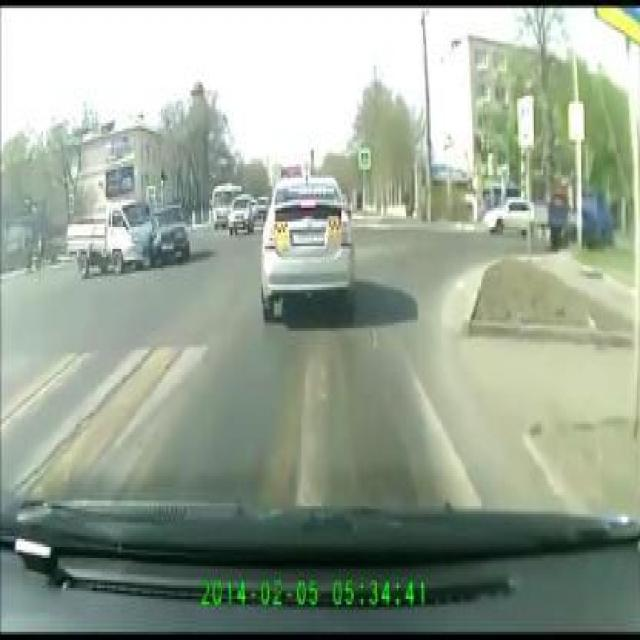accident: (63, 197, 192, 282)
